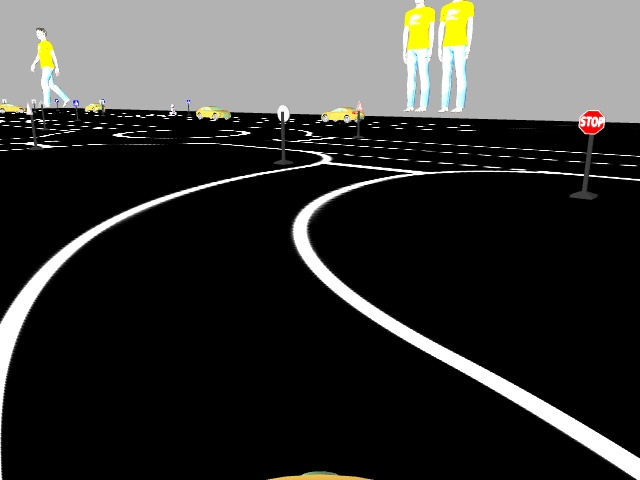Stop: (577, 108, 604, 133)
